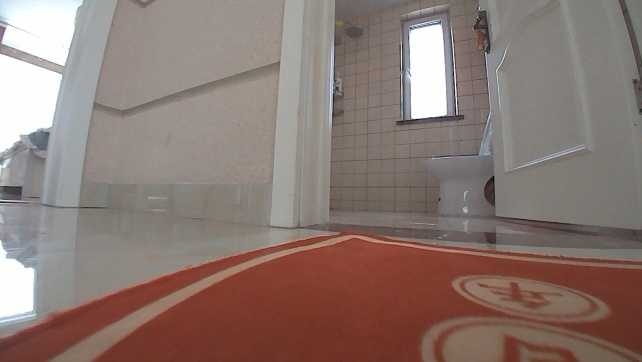blanket: (0, 227, 641, 361)
door_anno: (466, 0, 640, 229)
toilet: (426, 109, 496, 218)
